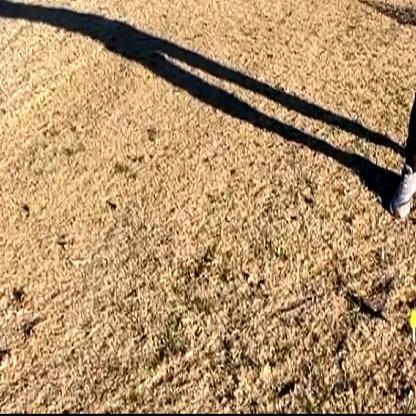ClubHead: (408, 308, 416, 335)
